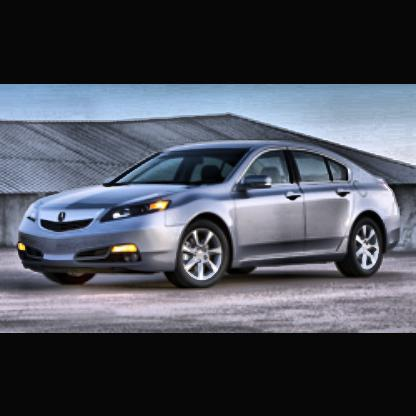Acura RL Sedan 2012: (17, 141, 403, 294)
